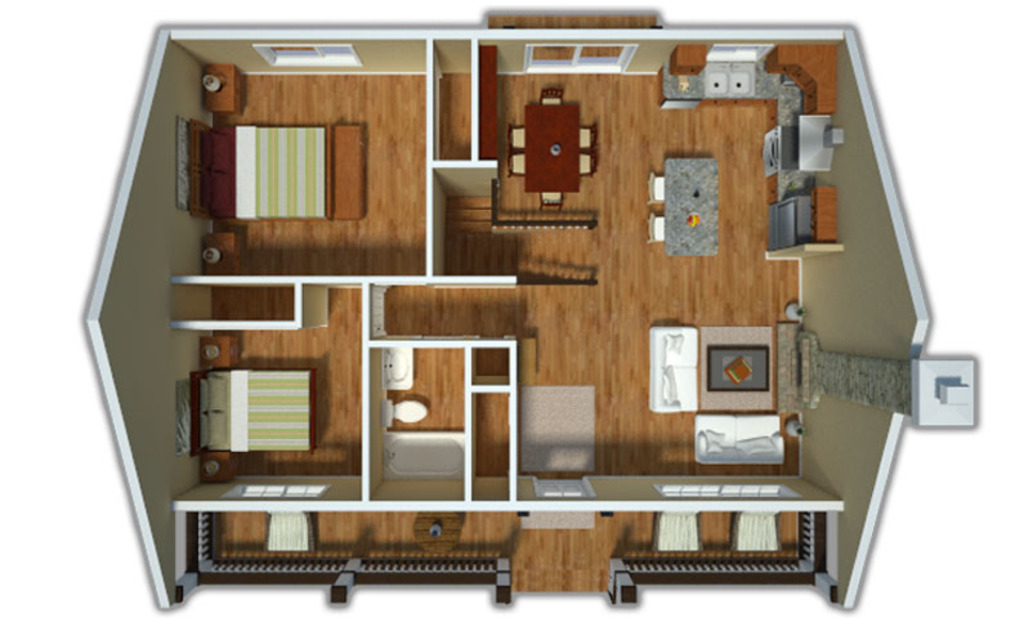bed: (175, 118, 371, 228), (174, 365, 325, 455)
dining_table: (505, 74, 600, 214)
large_sink: (374, 395, 437, 430)
large_sofa: (688, 414, 788, 467), (650, 321, 700, 413)
small_sink: (372, 346, 421, 392)
tub: (373, 435, 472, 485)
twin_sink: (706, 53, 762, 97)
